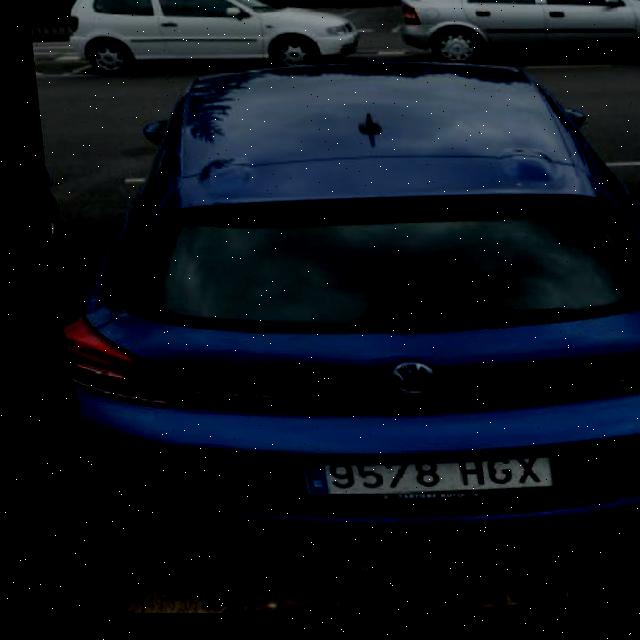license_plate: (277, 442, 537, 520)
